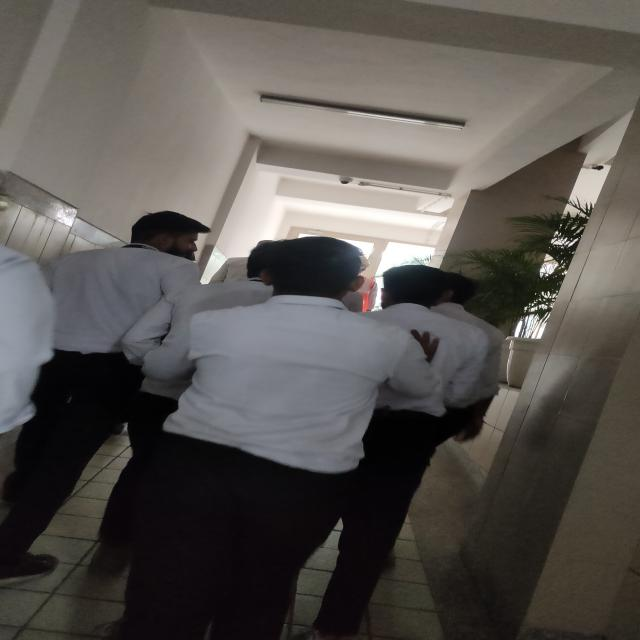unsafe: (126, 236, 432, 640), (0, 206, 204, 590), (292, 263, 489, 640)
